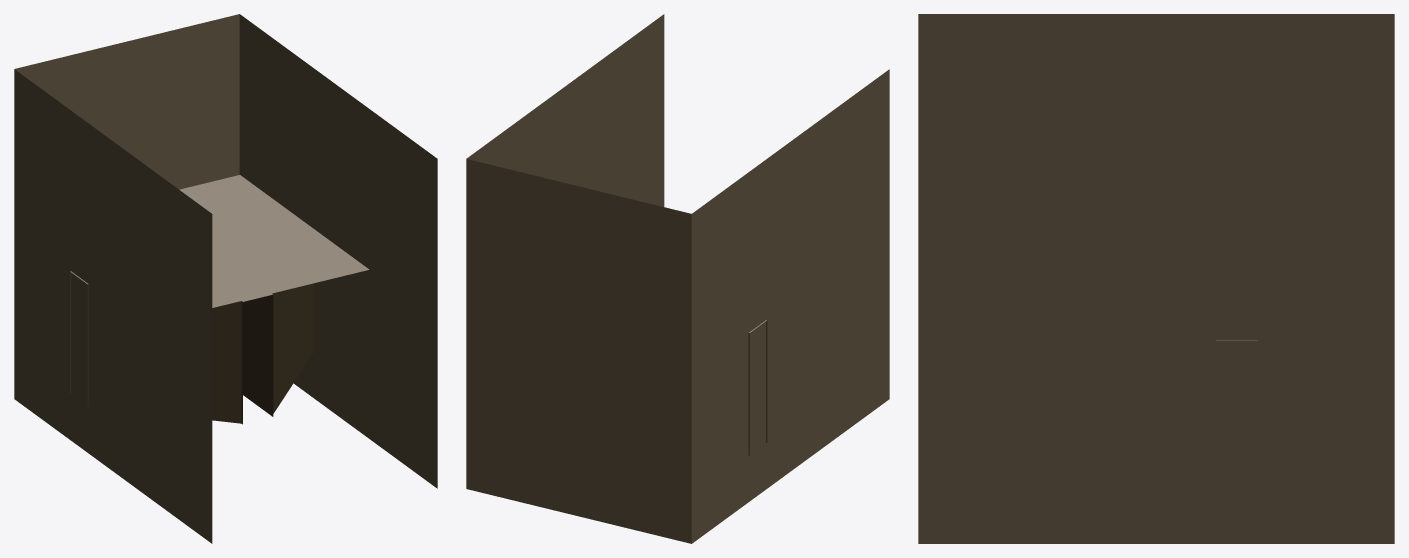
The model's file is Arena.fbx.
The picture shows the model from 3 angles, left to right: view 1: azimuth 30°, elevation 25°; view 2: azimuth 150°, elevation 25°; view 3: azimuth 270°, elevation 25°; orthographic projection. The views are drawn at different scales.
Parts seen in each view (by area): view 1: Walls1, OuterAngles, CenterStage, OuterEdge, CenterAngles; view 2: Walls1, CenterStage; view 3: Walls1.
Boxes of the visible parts, x1,y1,x2,y2 form: Walls1: (14, 14, 437, 543); OuterAngles: (201, 205, 314, 423); CenterStage: (70, 216, 313, 424); OuterEdge: (179, 175, 369, 307); CenterAngles: (212, 216, 312, 300); Walls1: (466, 14, 889, 543); CenterStage: (748, 320, 767, 455); Walls1: (918, 14, 1394, 543).
Bounding box in the file's own units: 47.65 × 66.09 × 71.82.
